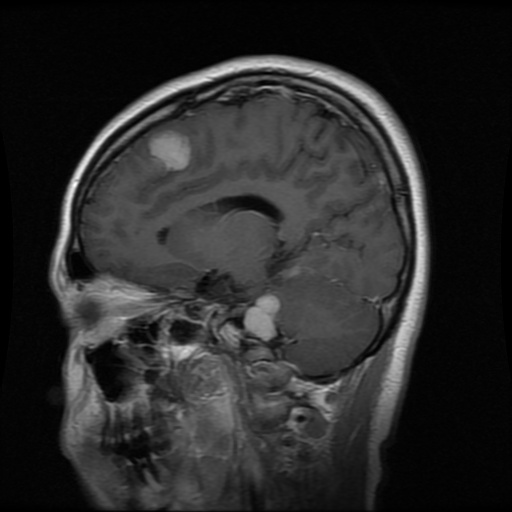meningioma: (153, 128, 192, 170)
